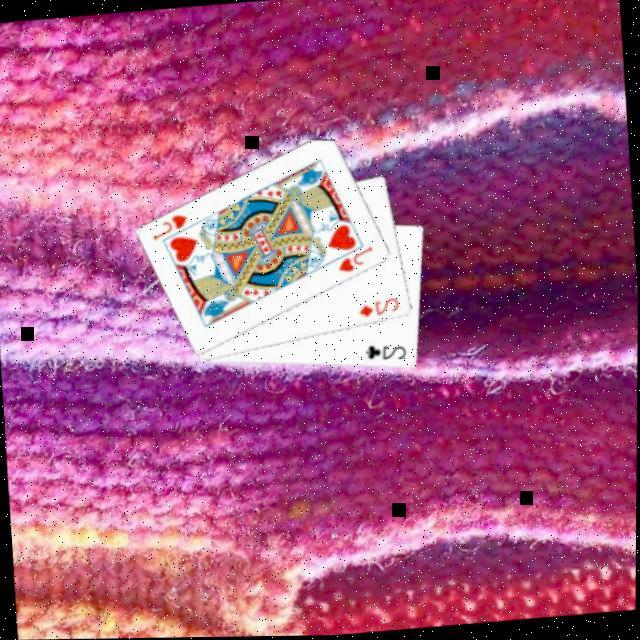2C: (361, 340, 408, 368)
2D: (354, 296, 401, 323)
JH: (332, 244, 376, 279), (147, 211, 190, 246)
